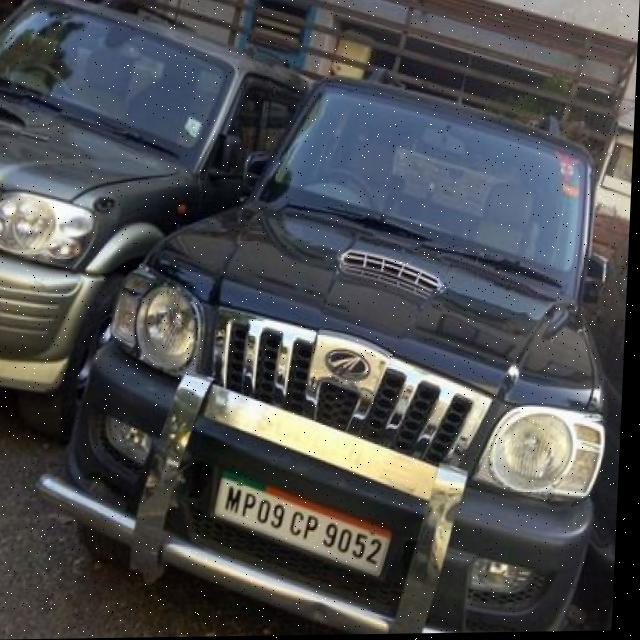plate: (208, 470, 398, 599)
